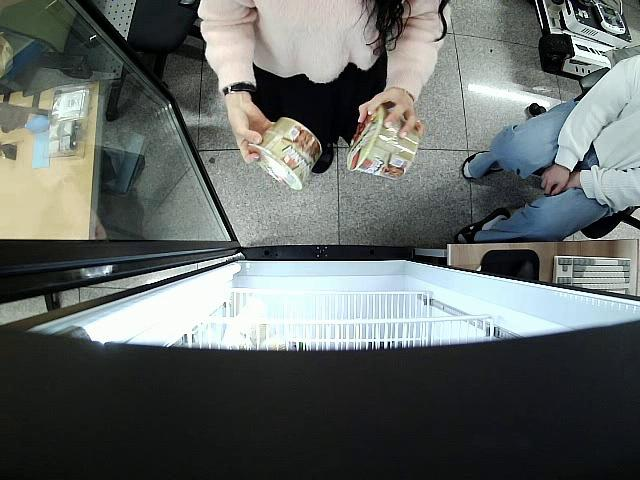00_hand: (359, 94, 425, 140), (229, 102, 276, 165)
03_chapagetti_L: (345, 103, 421, 179), (248, 119, 323, 191)
